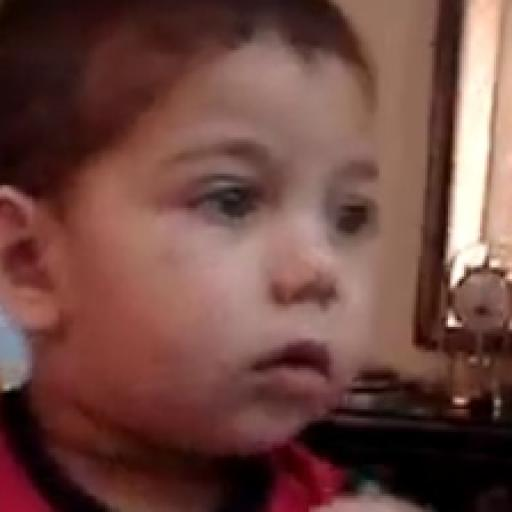Autism: (64, 64, 374, 426)
